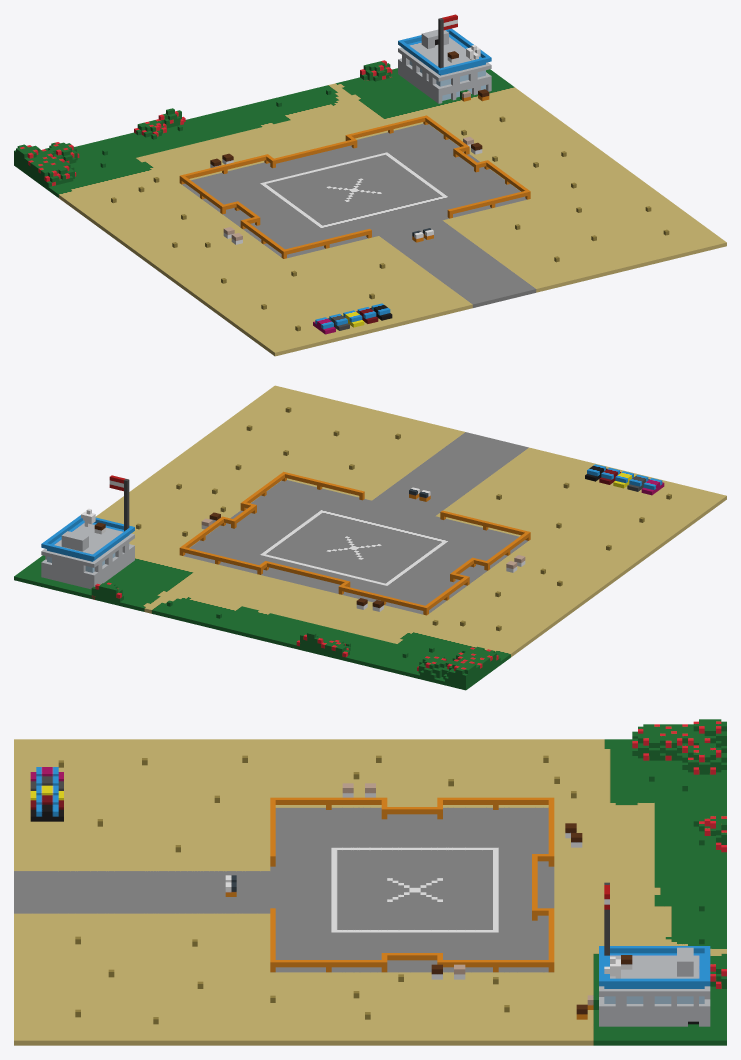
The model's file is TakeOffBase.fbx.
3 renders of one model, top to bottom at view 1: azimuth 30°, elevation 25°; view 2: azimuth 150°, elevation 25°; view 3: azimuth 270°, elevation 25°, orthographic. The views are drawn at different scales.
Parts seen in each view (by area): view 1: Ground, Box_1, Fence, Union, Union_1; view 2: Ground, Box_1, Fence, Union, Union_1, Sphere_9; view 3: Ground, Box_1, Fence, Union, Union_1, Box_5.
Boxes of the visible parts, <box> form: Ground: <box>14,68,726,356</box>; Box_1: <box>398,14,491,103</box>; Fence: <box>179,115,530,258</box>; Union: <box>14,142,80,189</box>; Union_1: <box>134,108,185,137</box>; Ground: <box>14,385,726,689</box>; Box_1: <box>41,475,134,589</box>; Fence: <box>179,471,530,615</box>; Union: <box>416,646,500,690</box>; Union_1: <box>296,632,350,660</box>; Sphere_9: <box>91,582,123,605</box>; Ground: <box>14,739,726,1045</box>; Box_1: <box>599,882,710,1026</box>; Fence: <box>270,797,554,972</box>; Union: <box>632,719,726,774</box>; Union_1: <box>699,811,726,852</box>; Box_5: <box>30,804,63,821</box>.
Size of the model in its own units: 128 by 23 by 128.
